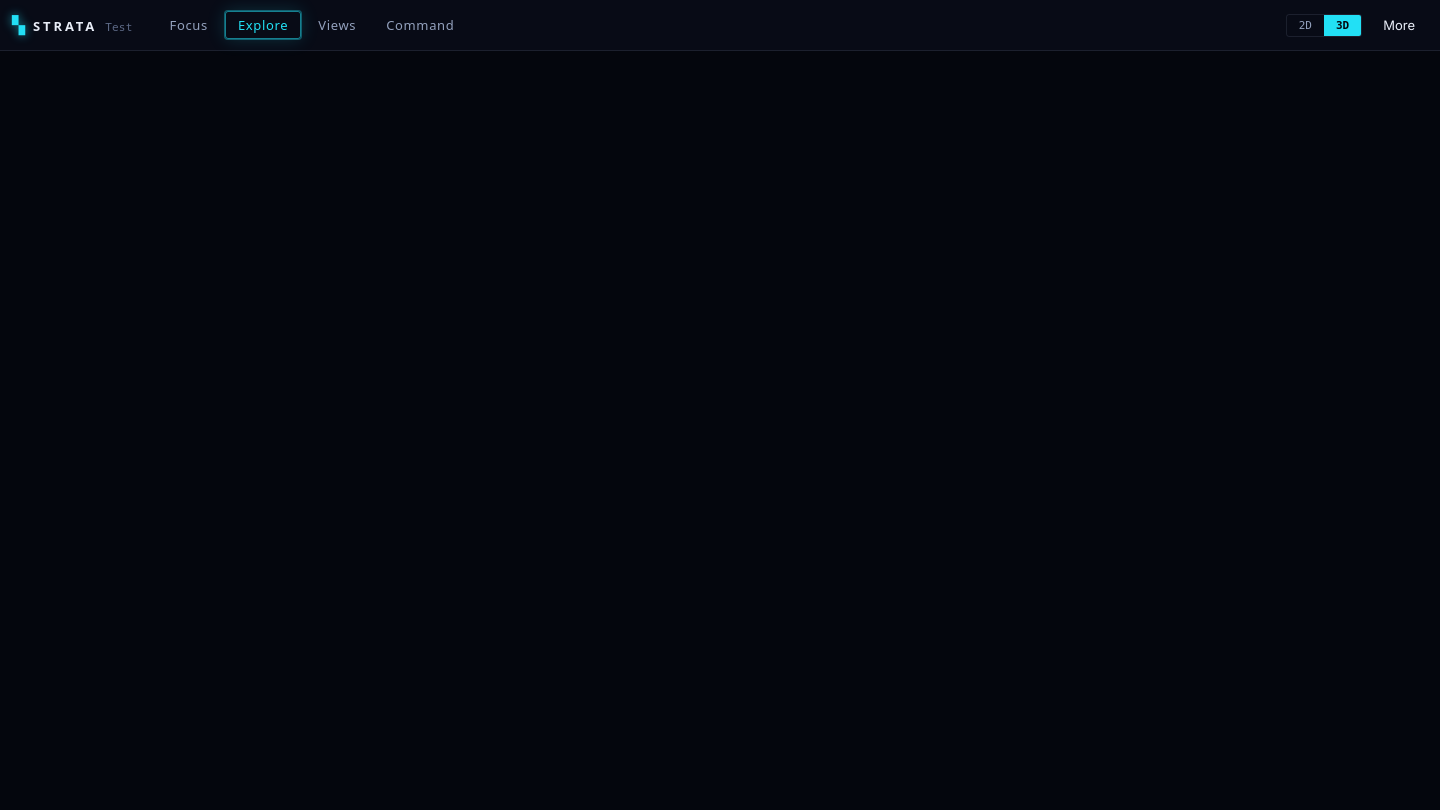
Test case: SettingsDialog › opens from Command bar More, without the motion toggle there
Click the button "More" at point(1399, 25), box top-left (1370, 8), bottom-right (1428, 42)
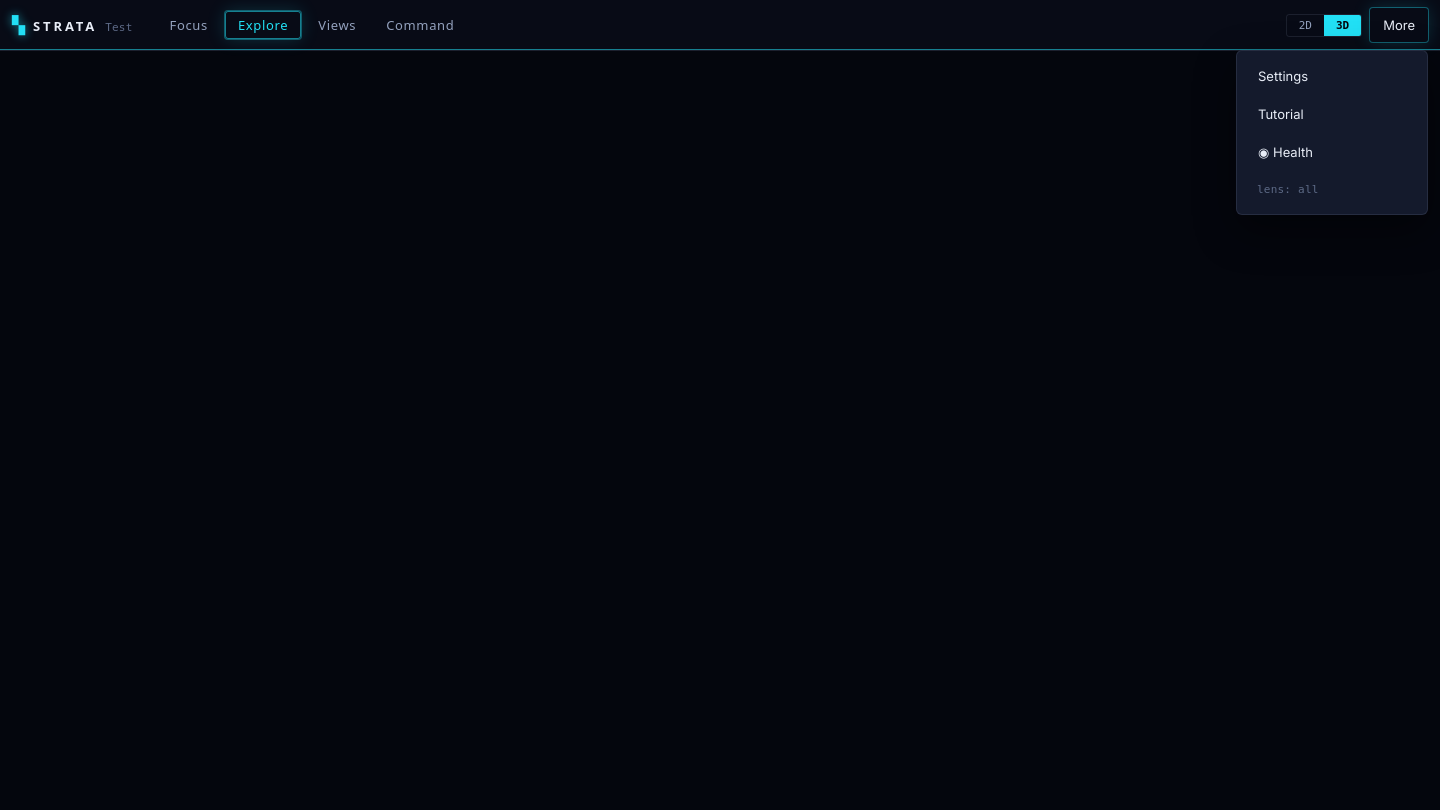
Now the button "Settings" is shown
Click the button "Settings" at point(1332, 76), box top-left (1245, 59), bottom-right (1419, 93)
(page scrolled)
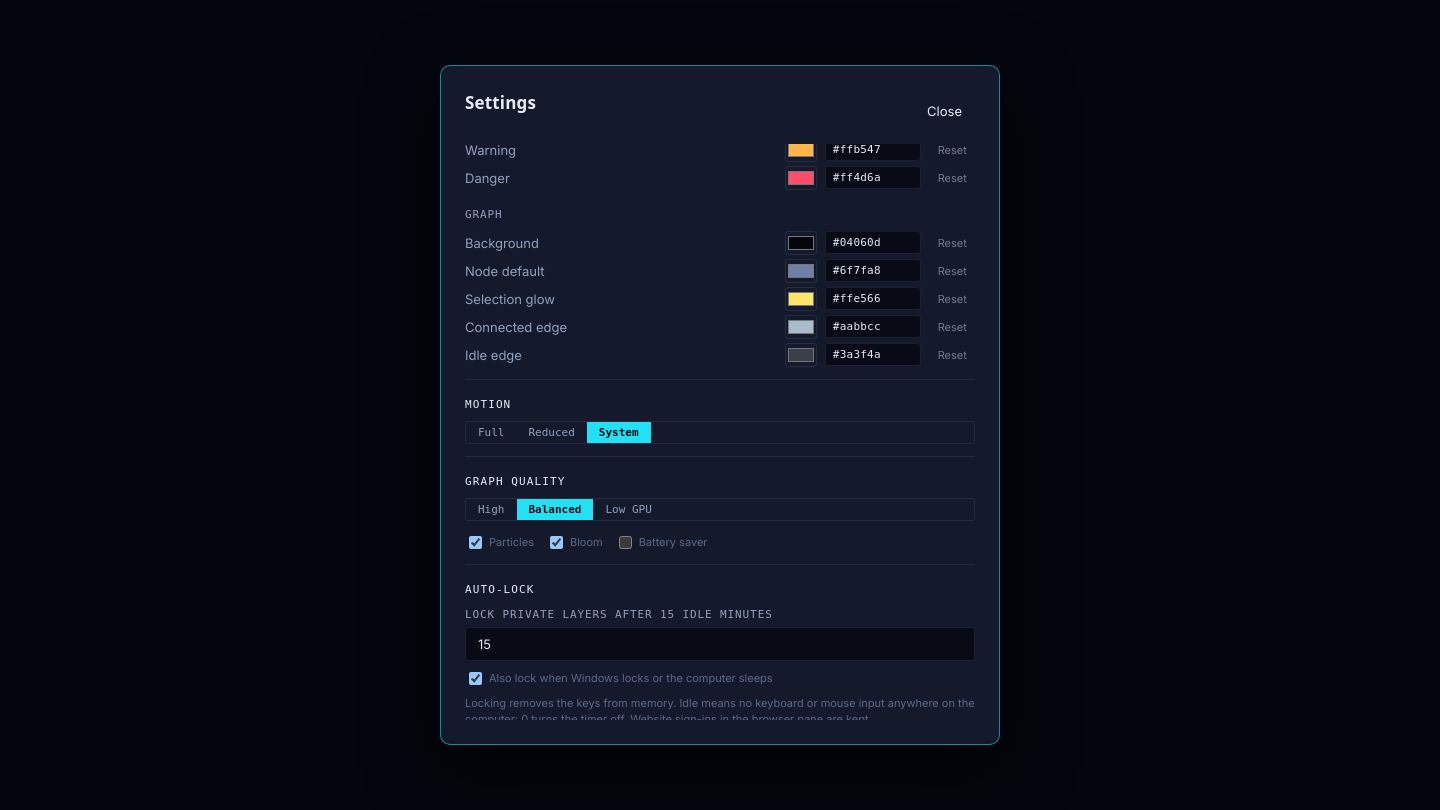
Now the dialog "Settings" is shown, box top-left (440, 65), bottom-right (1000, 745)
Now the element named "Motion preference" is shown, box top-left (465, 421), bottom-right (975, 444)
